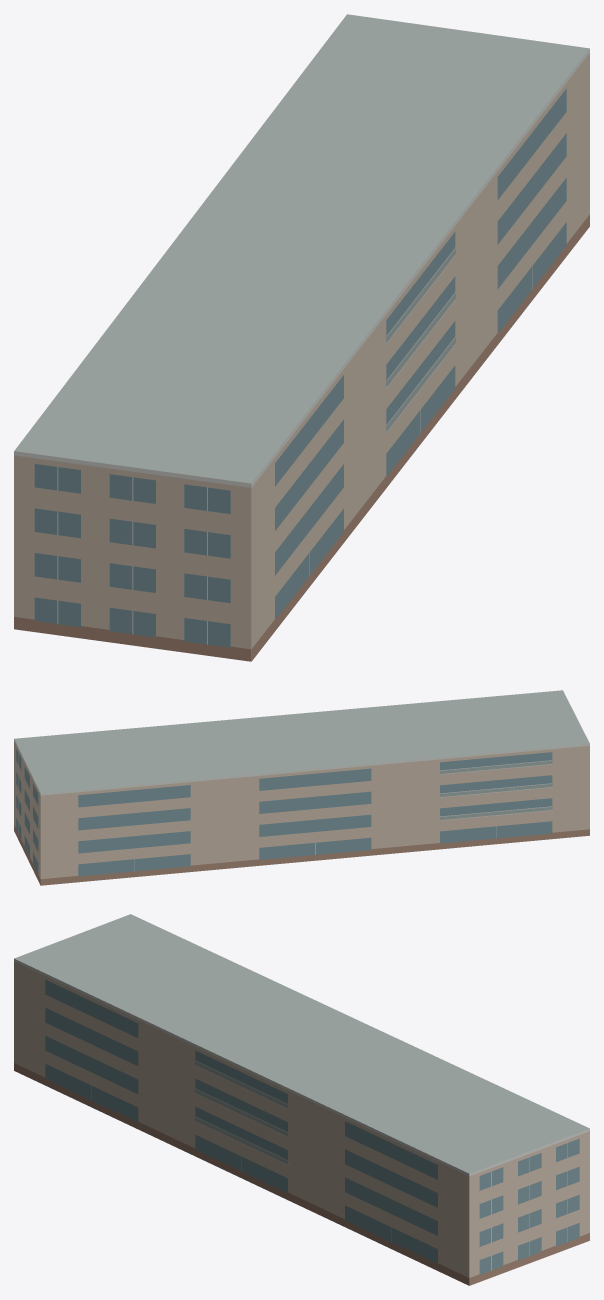
Rendered from survey-upis-32839660.glb.
The picture shows the model from 3 angles, top to bottom: view 1: azimuth 30°, elevation 25°; view 2: azimuth 150°, elevation 25°; view 3: azimuth 270°, elevation 25°; orthographic projection. The views are drawn at different scales.
Parts seen in each view (by area): view 1: survey-upis-32839660.tmp; view 2: survey-upis-32839660.tmp; view 3: survey-upis-32839660.tmp.
Boxes of the visible parts, box(x1,y1,x2,y2) form: survey-upis-32839660.tmp: box(14, 14, 589, 661); survey-upis-32839660.tmp: box(14, 690, 589, 885); survey-upis-32839660.tmp: box(14, 914, 589, 1285).
Size of the model in its own units: 50.62 by 10.2 by 47.45.
